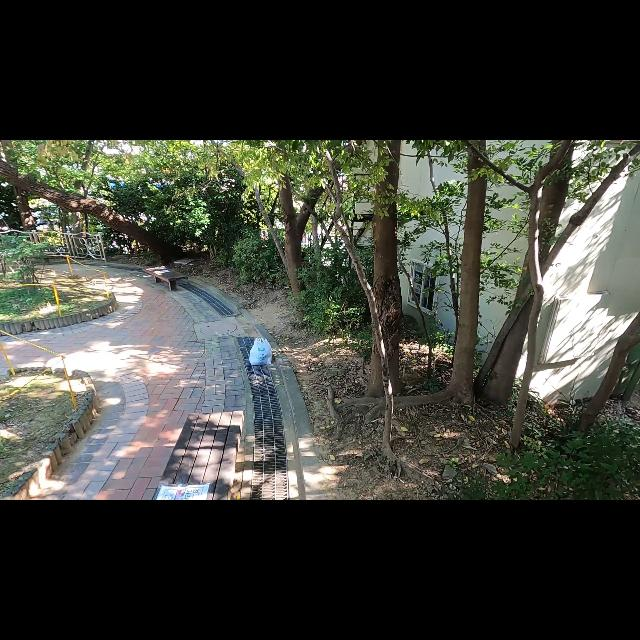trash: (246, 334, 274, 370)
